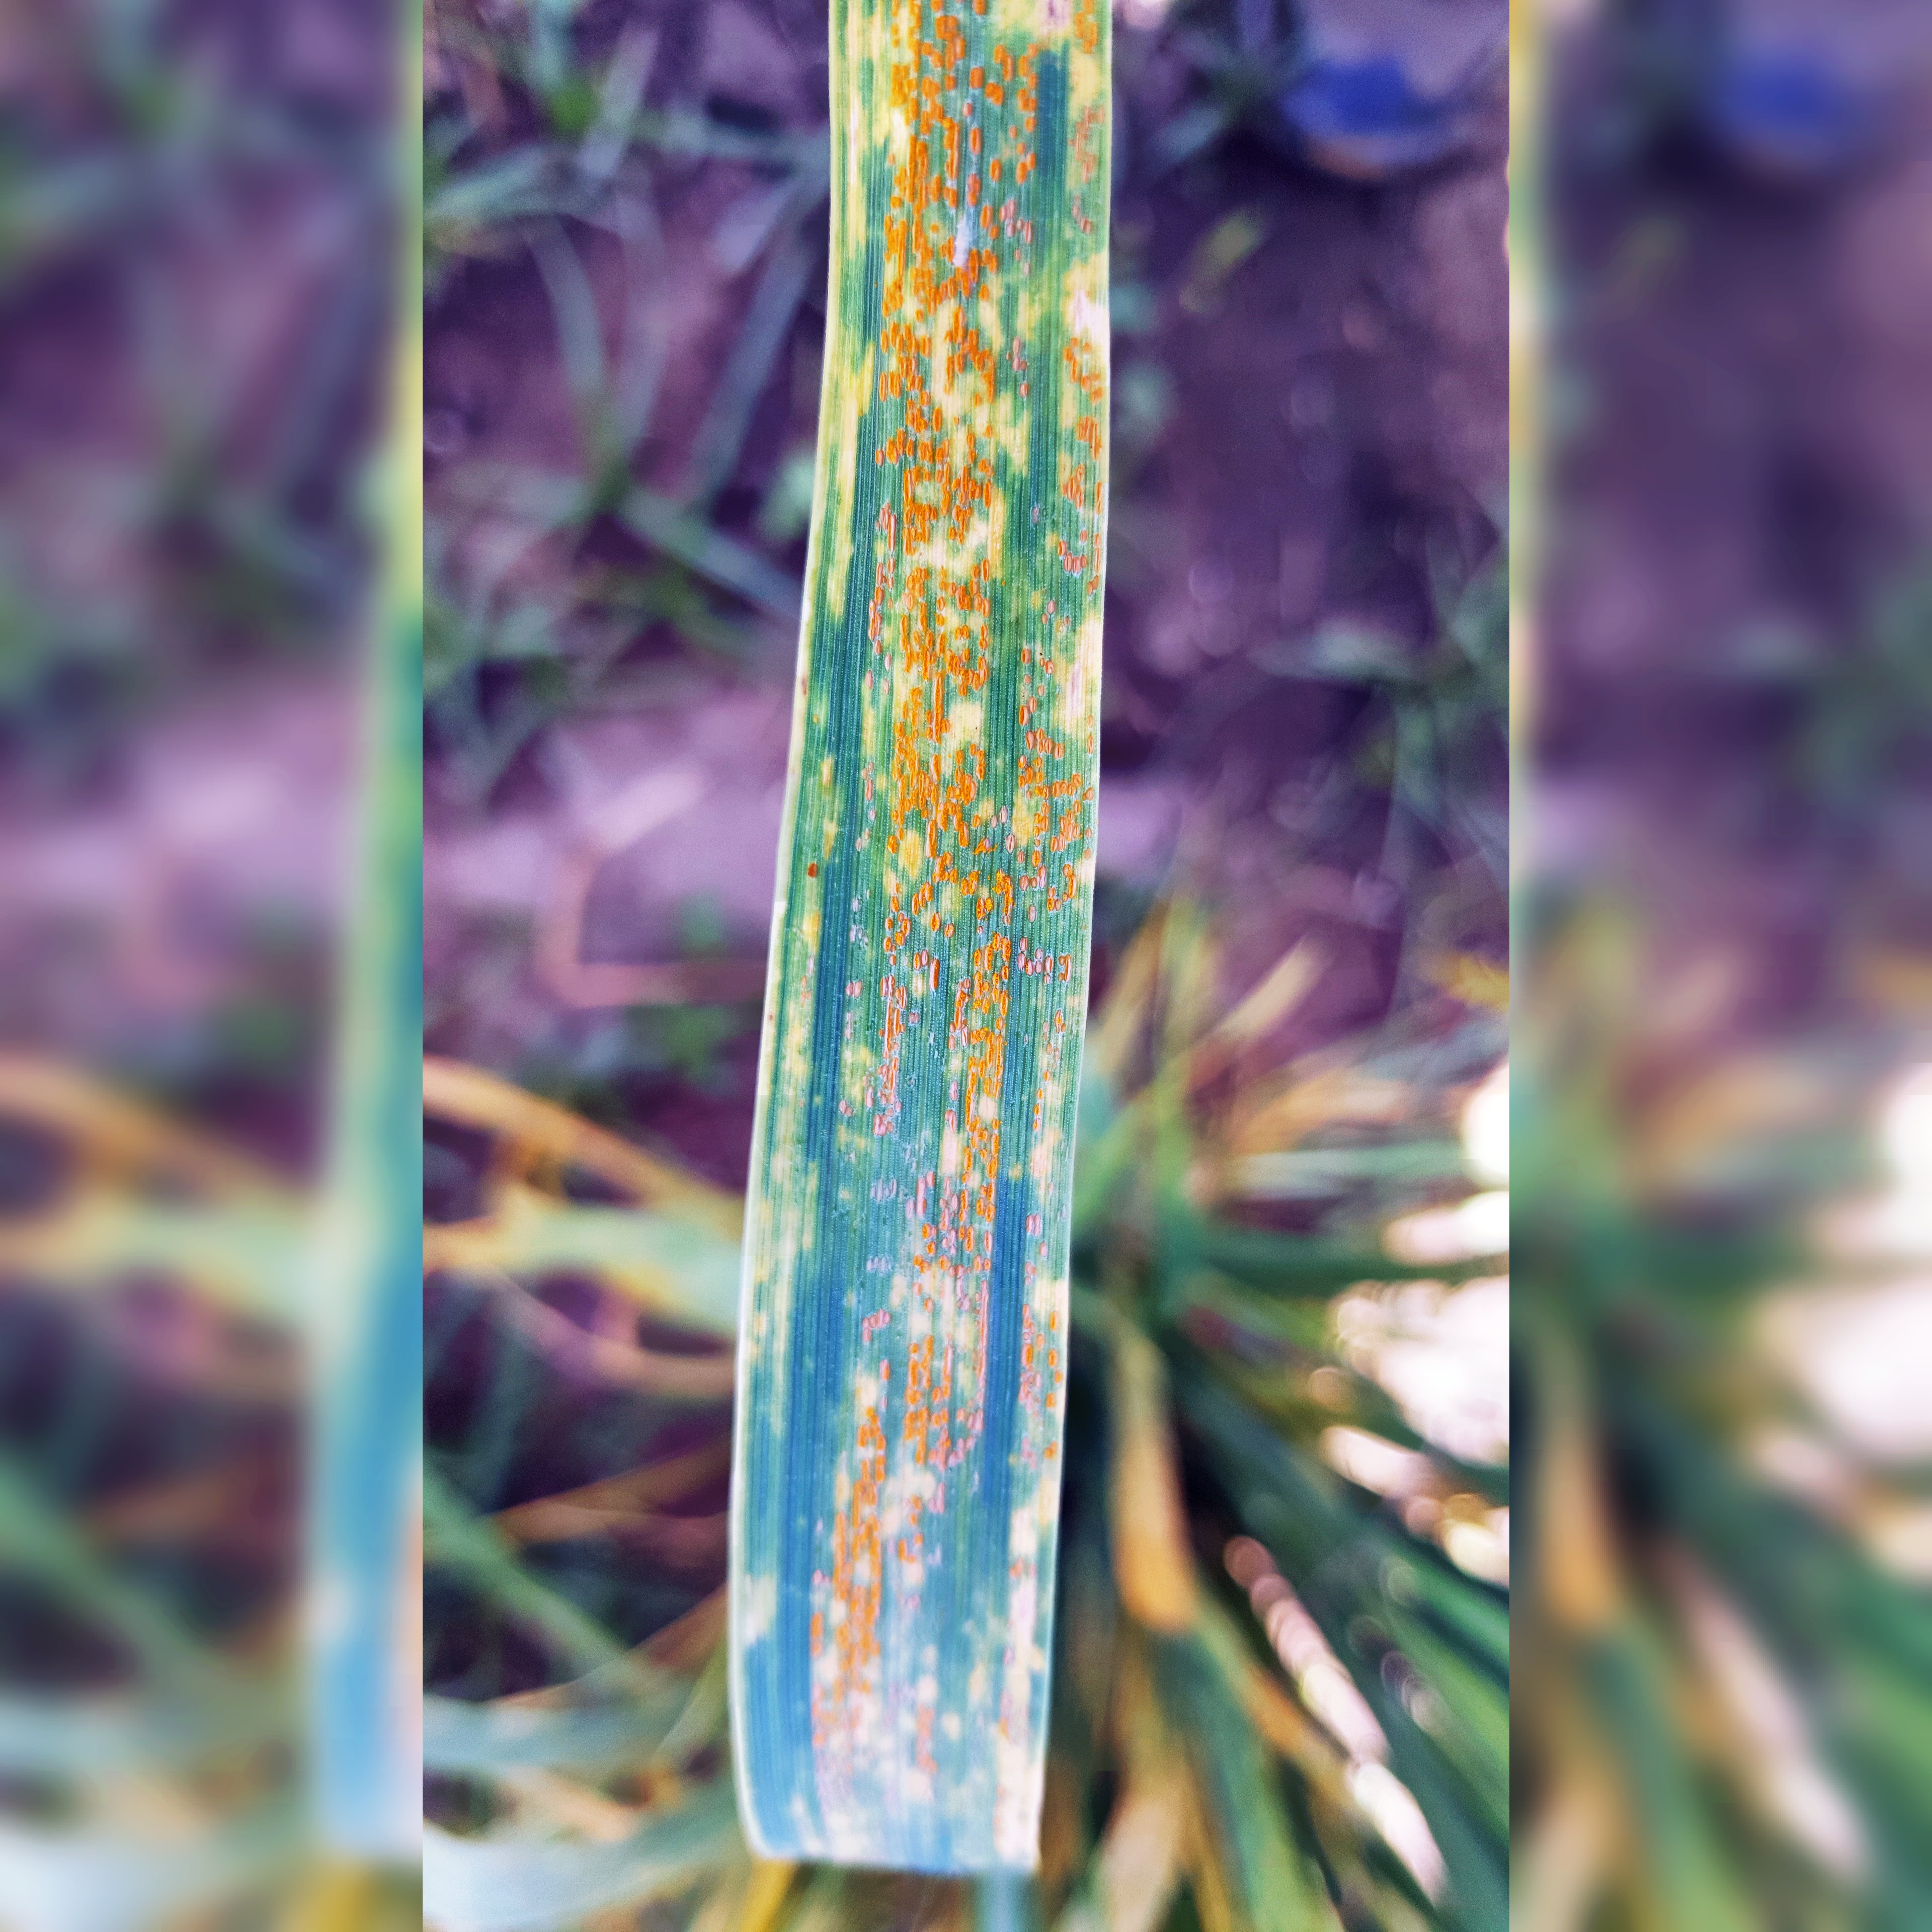Leaf Rust: (764, 28, 1097, 1776)
